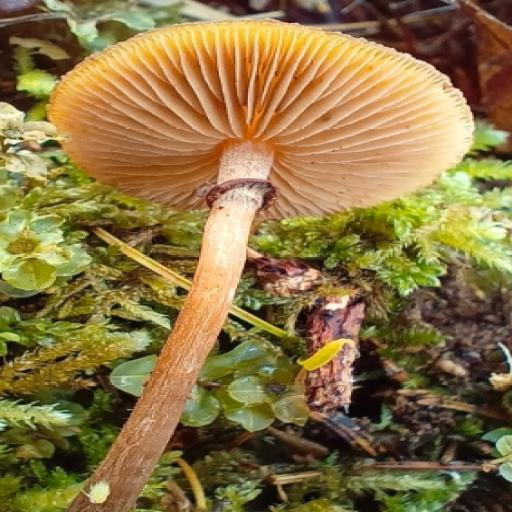mushroom: (40, 11, 481, 340)
